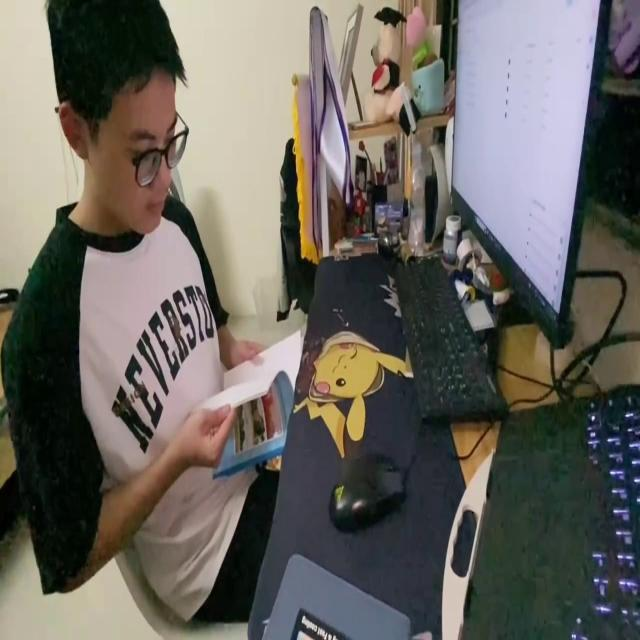book: (192, 326, 306, 474)
laptop: (450, 0, 614, 344)
student: (0, 0, 281, 625)
